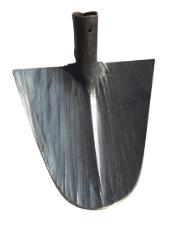PELLE: (7, 0, 157, 221)
